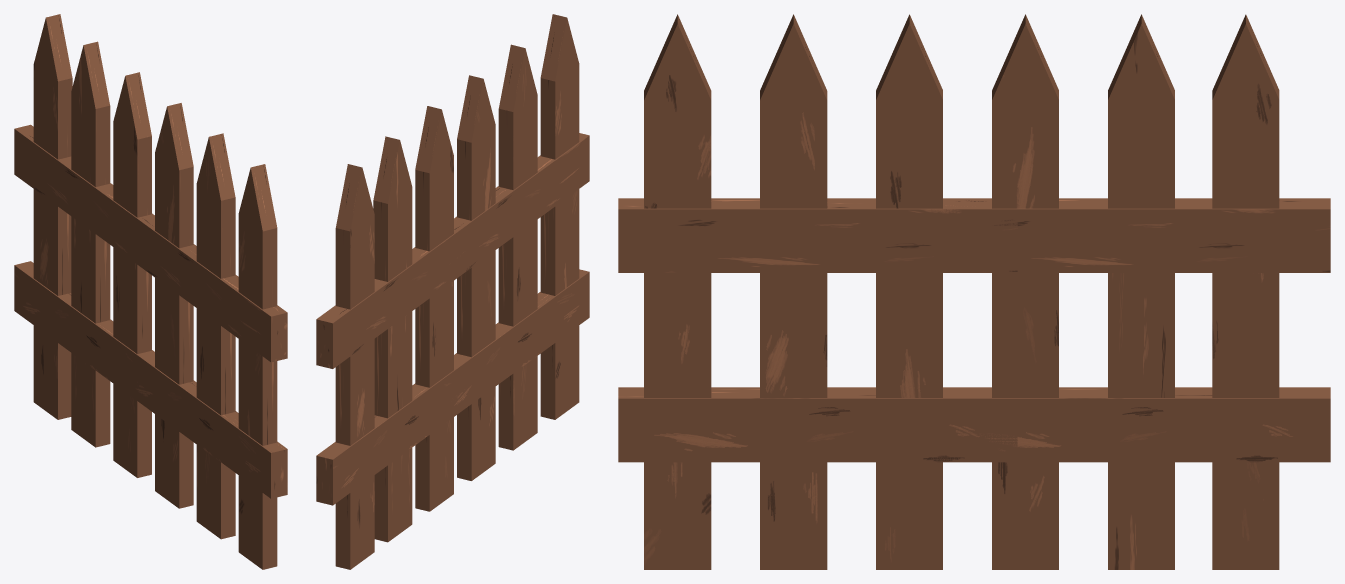
The model's file is barriere 1.fbx.
3 renders of one model, left to right at view 1: azimuth 30°, elevation 25°; view 2: azimuth 150°, elevation 25°; view 3: azimuth 270°, elevation 25°, orthographic. The views are drawn at different scales.
Visible parts, largest first — view 1: barrieres 1; view 2: barrieres 1; view 3: barrieres 1.
Part boxes in pixels (box(x1,y1,x2,y2)): barrieres 1: box(14, 14, 287, 569); barrieres 1: box(316, 14, 589, 569); barrieres 1: box(618, 14, 1330, 569).
Bounding box in the file's own units: 25.45 × 577 × 682.
1 material, 1 textured.
